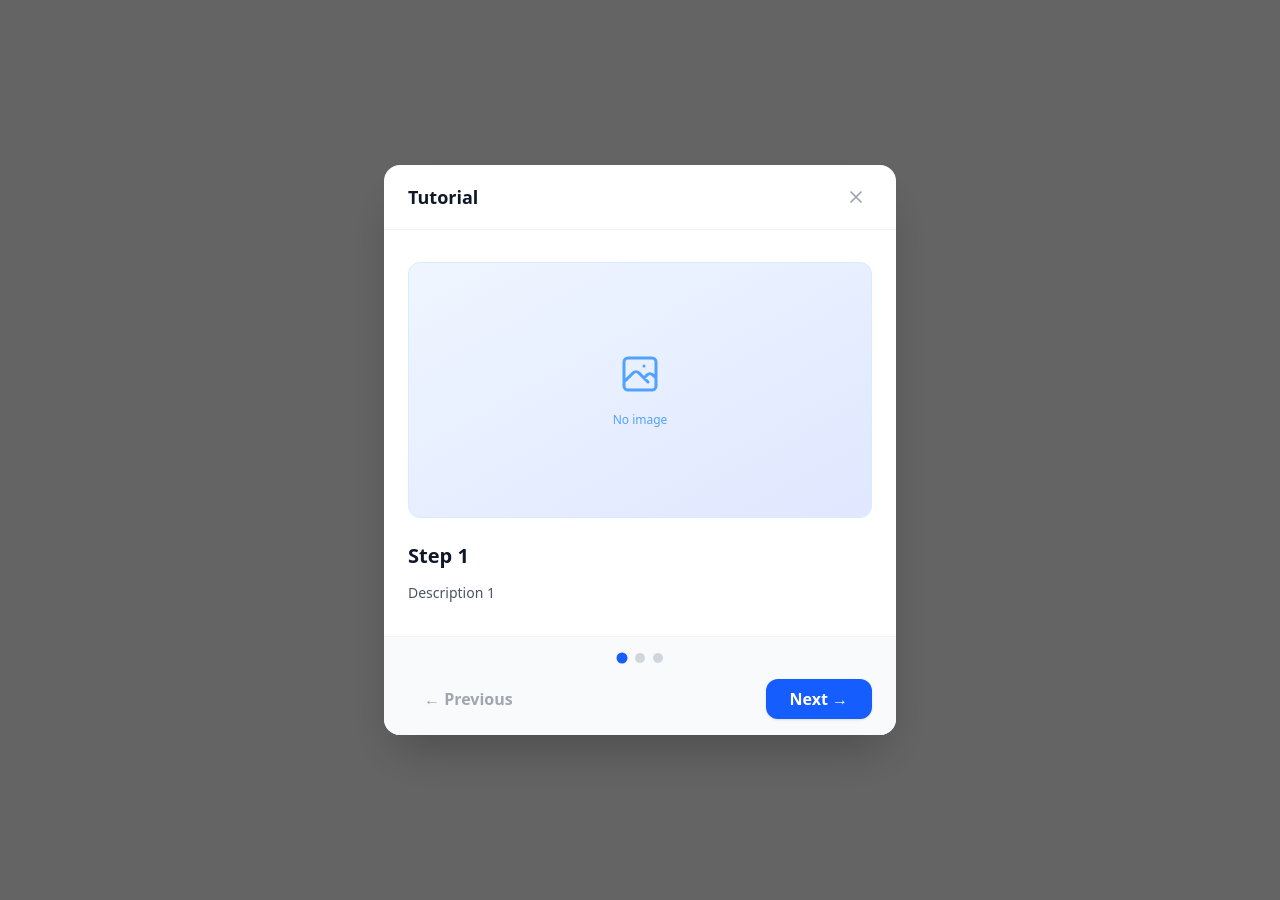
Test case: TutorialModal › can navigate by clicking dots
Click the 3rd button with test id "step-dot" at x=658, y=658, box [653,653,663,663]
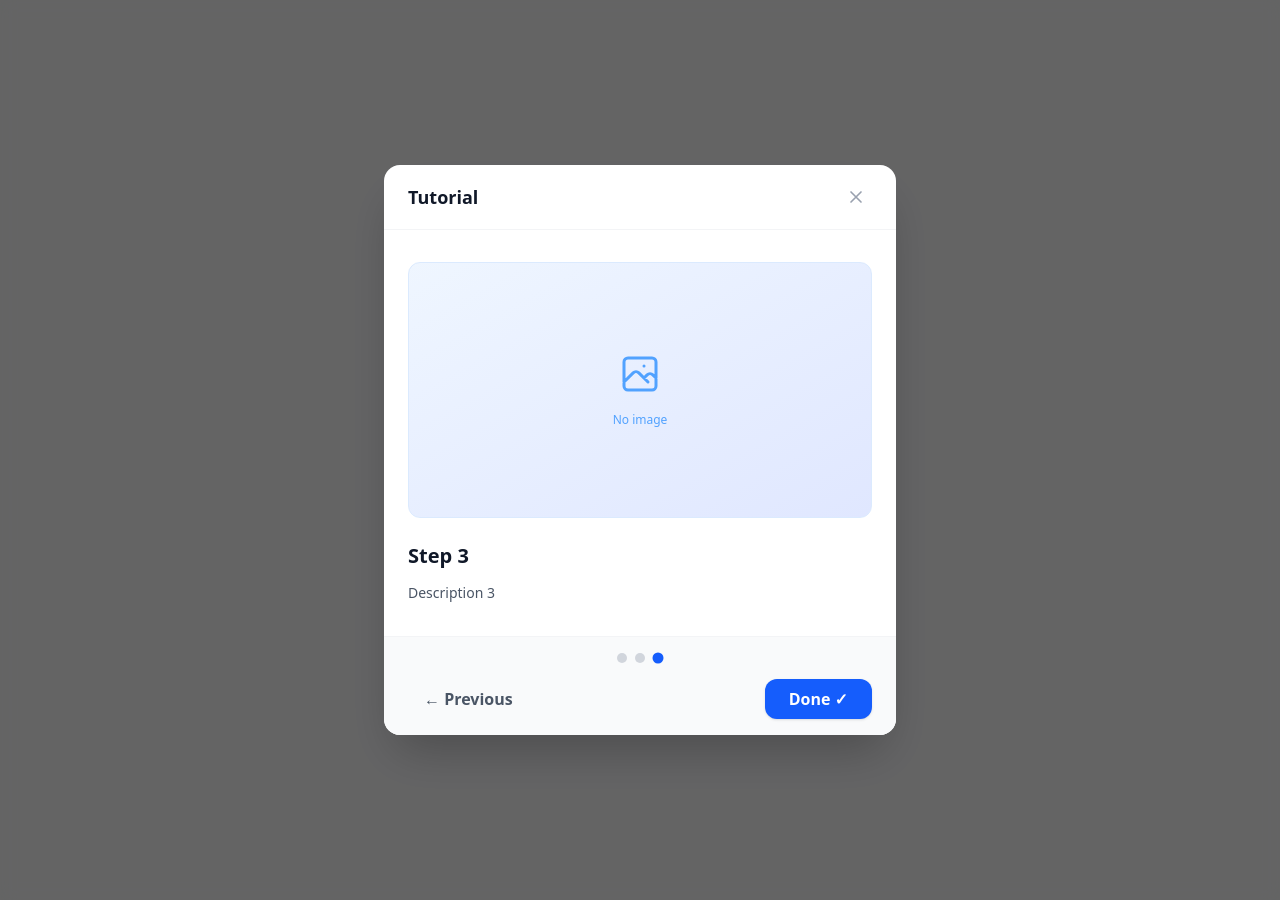
Check: the heading "Step 3" is shown, box [408,542,469,569]
